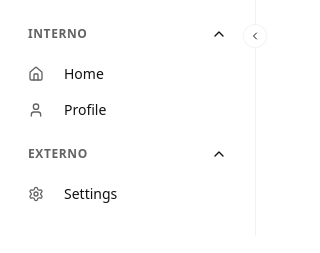
Test: Sidebar › Dropdowns › toggles dropdown group visibility
The width and height of the screenshot is (320, 253).
Expected: the button titled "Home" is shown, [16, 56, 239, 92]
Click the button "Interno": (128, 34) [16, 16, 239, 52]
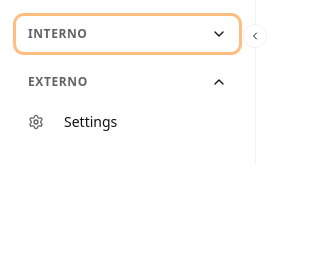
Expected: the button titled "Home" is gone
Expected: the button titled "Profile" is gone
Note: Click again to expand
Click the button "Interno": (128, 34) [16, 16, 239, 52]
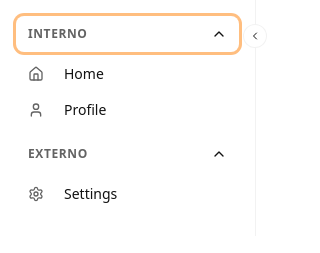
Expected: the button titled "Home" is shown, [16, 56, 239, 92]
Expected: the button titled "Profile" is shown, [16, 92, 239, 128]
